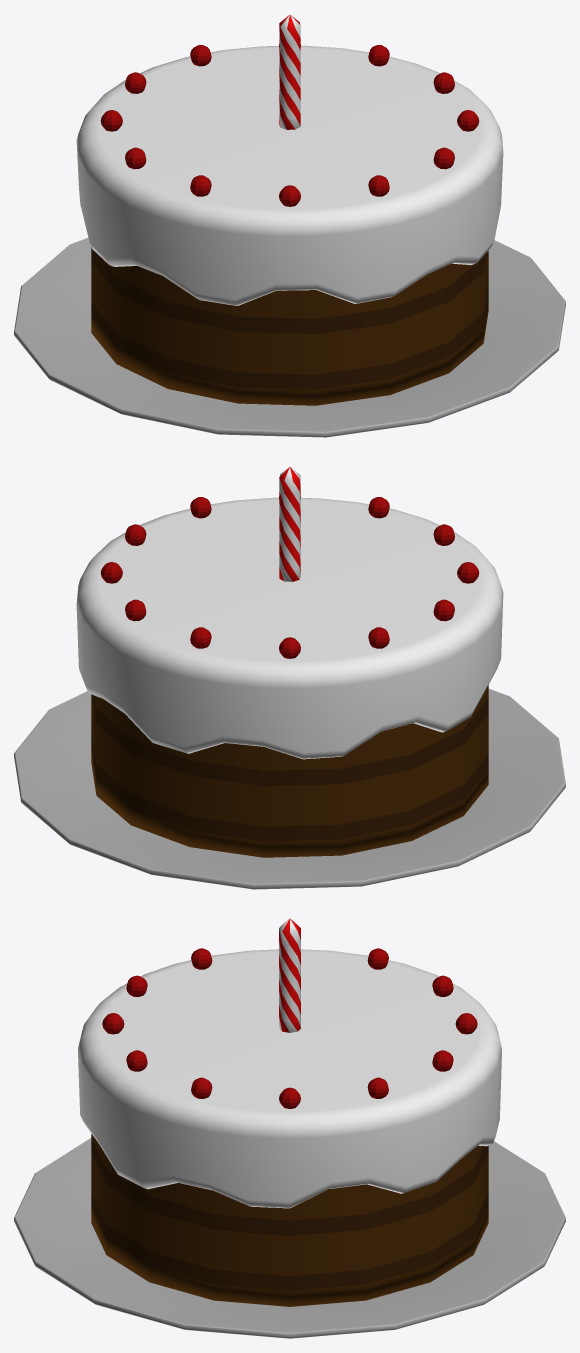
The model's file is SM_Cake.fbx.
3 renders of one model, top to bottom at view 1: azimuth 30°, elevation 25°; view 2: azimuth 150°, elevation 25°; view 3: azimuth 270°, elevation 25°, orthographic.
Parts seen in each view (by area): view 1: TheCake; view 2: TheCake; view 3: TheCake.
Part boxes in pixels (x1,y1,x2,y2): TheCake: (14,14,565,437); TheCake: (14,466,565,889); TheCake: (14,918,565,1338).
Size of the model in its own units: 50 by 32.18 by 50.
